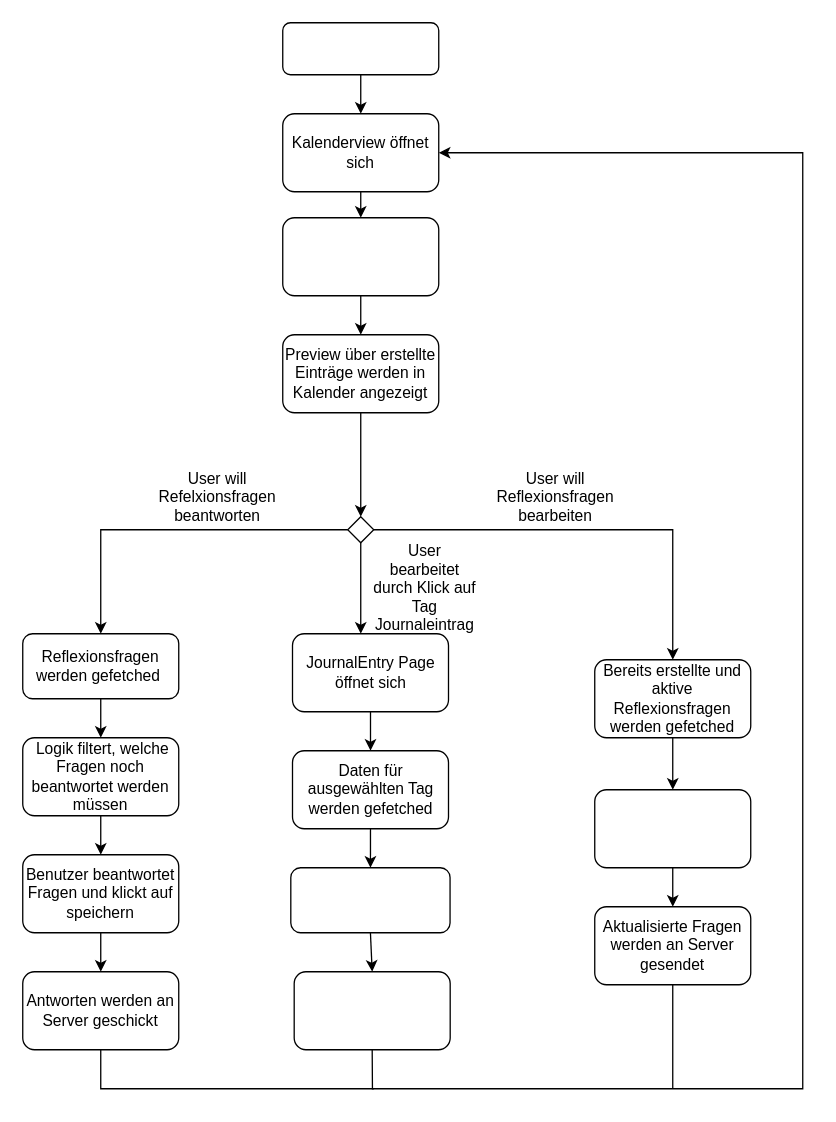
Image size: 836x1122. Some labels were removed from this diagram. The centre of each missing label's shape, as x and y in pixels:
"Benutzer öffnet Journal" goes at pixel 360 48.
"Eintrag wird an Server geschickt und verarbeitet" goes at pixel 371 1010.
"Journal Einträge für angezeigte Kalendertage werden gefetched" goes at pixel 360 256.
"User bearbeitet Eintrag und klickt auf speichern" goes at pixel 370 899.
"User fügt Reflexionsfragen hinzu oder deaktiviert aktive" goes at pixel 672 828.
